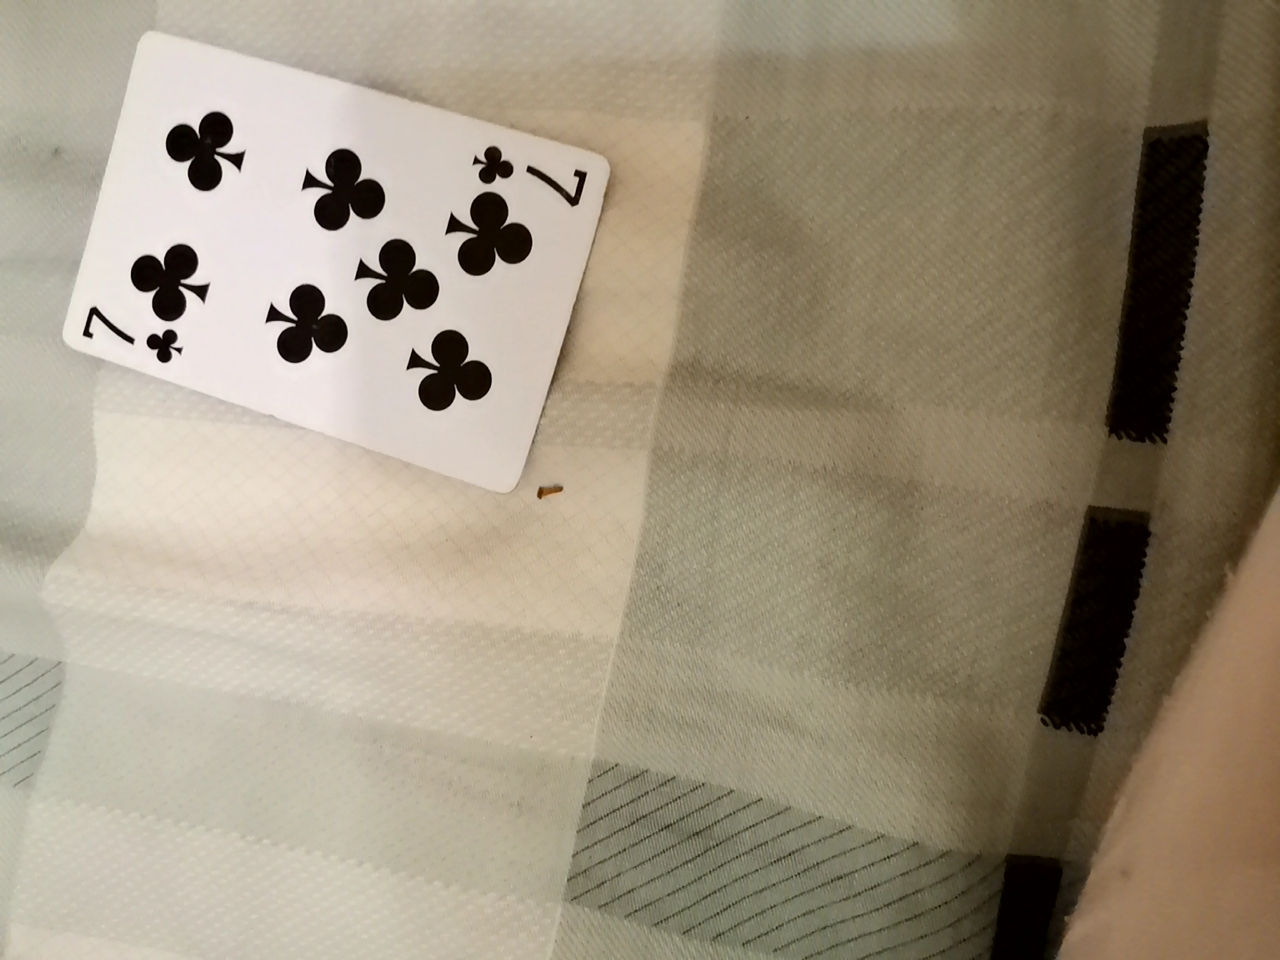mh 7: (80, 51, 597, 493)
